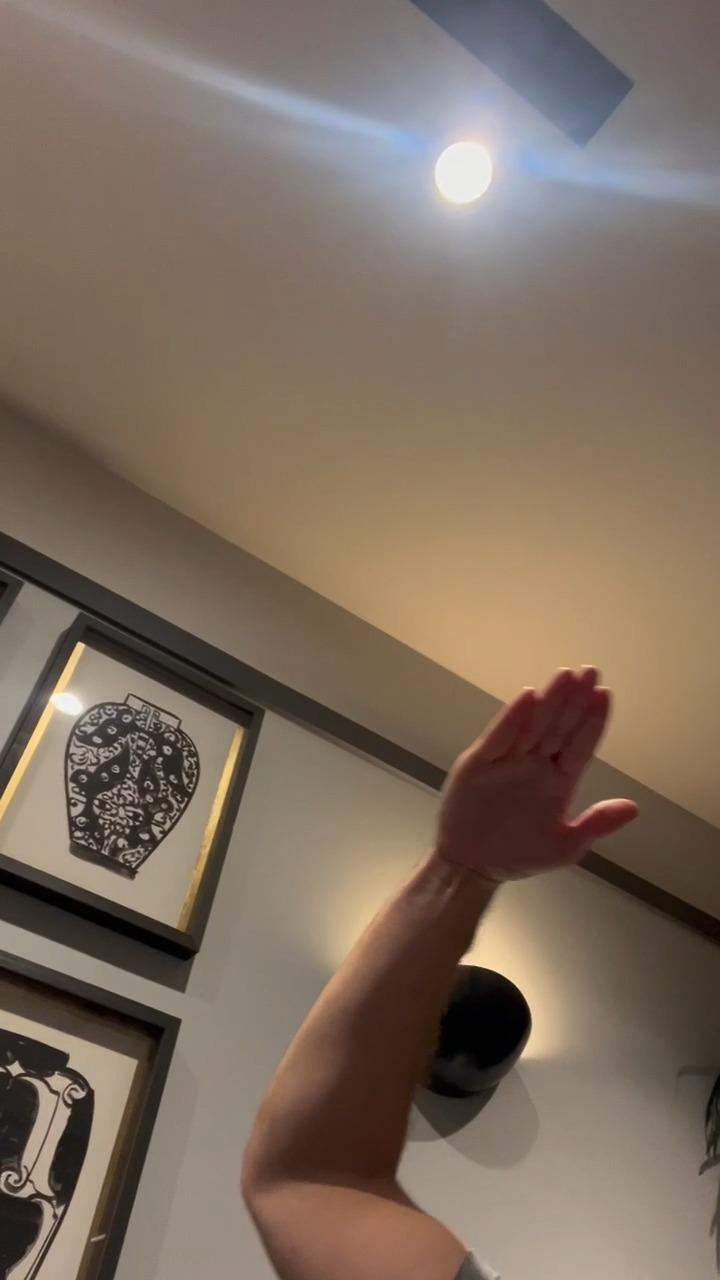Paper: (428, 662, 640, 890)
